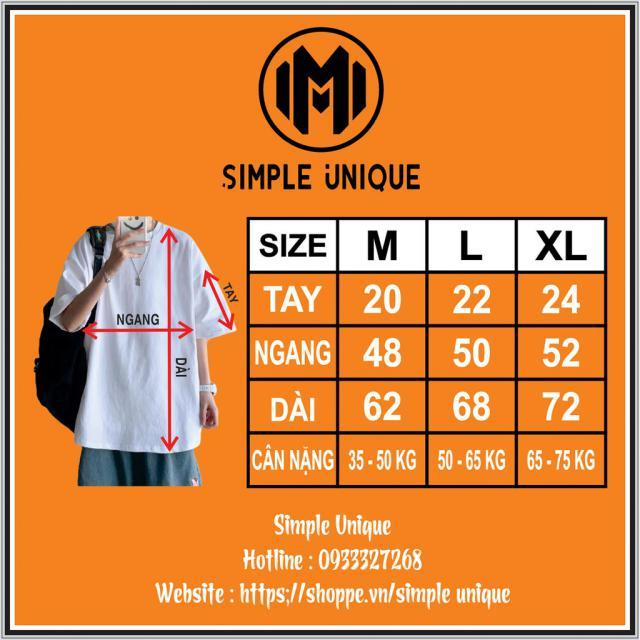Shirt: (53, 226, 238, 454)
